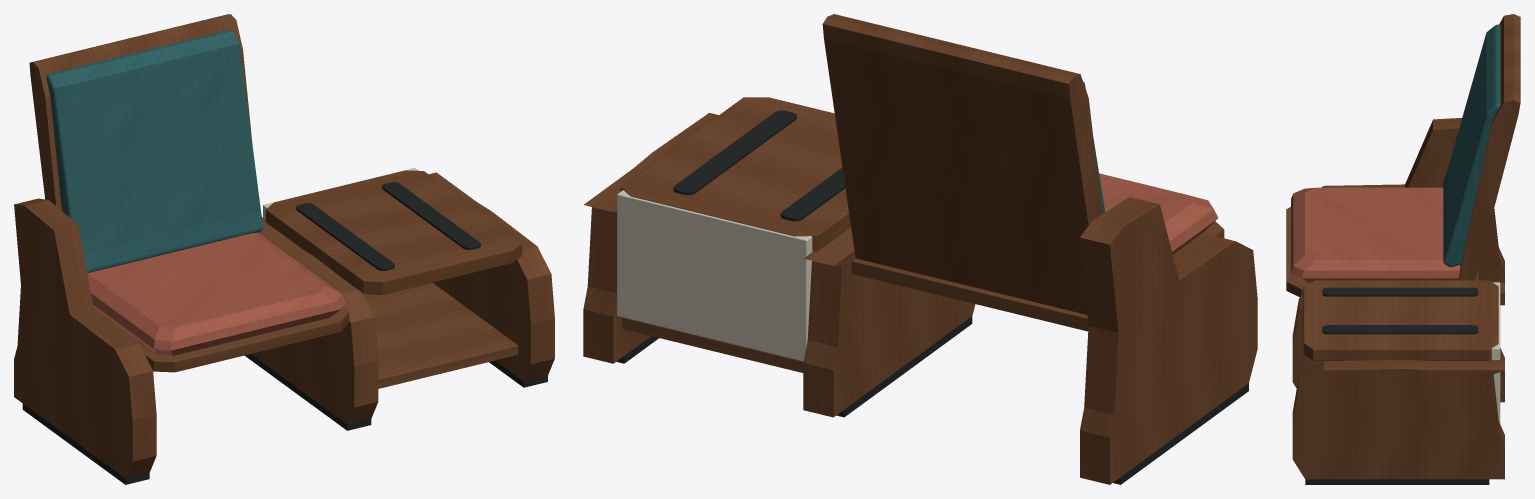
The model's file is AST-LND-002.glb.
The picture shows the model from 3 angles, left to right: view 1: azimuth 30°, elevation 25°; view 2: azimuth 150°, elevation 25°; view 3: azimuth 270°, elevation 25°; orthographic projection. The views are drawn at different scales.
Visible parts, largest first — view 1: AST-LND-002__warm_walnut, AST-LND-002__teal_weave, AST-LND-002__clay_weave, AST-LND-002__dark_rubber; view 2: AST-LND-002__warm_walnut, AST-LND-002__ivory_enamel, AST-LND-002__dark_rubber, AST-LND-002__clay_weave; view 3: AST-LND-002__warm_walnut, AST-LND-002__clay_weave, AST-LND-002__teal_weave, AST-LND-002__dark_rubber, AST-LND-002__ivory_enamel.
Boxes of the visible parts, x1,y1,x2,y2 form: AST-LND-002__warm_walnut: (14, 14, 554, 478); AST-LND-002__teal_weave: (46, 30, 263, 272); AST-LND-002__clay_weave: (87, 232, 345, 355); AST-LND-002__dark_rubber: (22, 182, 547, 484); AST-LND-002__warm_walnut: (583, 14, 1257, 484); AST-LND-002__ivory_enamel: (617, 190, 812, 361); AST-LND-002__dark_rubber: (616, 110, 1248, 484); AST-LND-002__clay_weave: (1099, 173, 1218, 254); AST-LND-002__warm_walnut: (1286, 14, 1520, 479); AST-LND-002__clay_weave: (1291, 187, 1460, 283); AST-LND-002__teal_weave: (1443, 24, 1500, 267); AST-LND-002__dark_rubber: (1305, 287, 1489, 484); AST-LND-002__ivory_enamel: (1491, 282, 1500, 423).
Size of the model in its own units: 1.4 by 1.05 by 0.75.
Materials: 5 (5 with a texture image).
